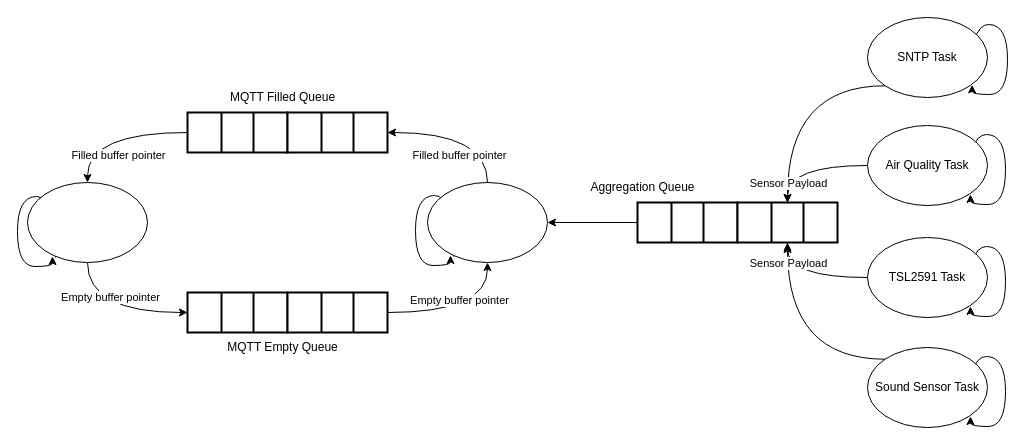
The diagram is 1025 pixels wide and 445 high, and some of its shapes have lost their labels. The shapes that lost their labels are listed below. From the top down, each one's box as (x1, y1, x2, y2) in pixels, then its label:
(26, 182, 148, 262): MQTT Task
(426, 182, 548, 262): Aggregation Task
